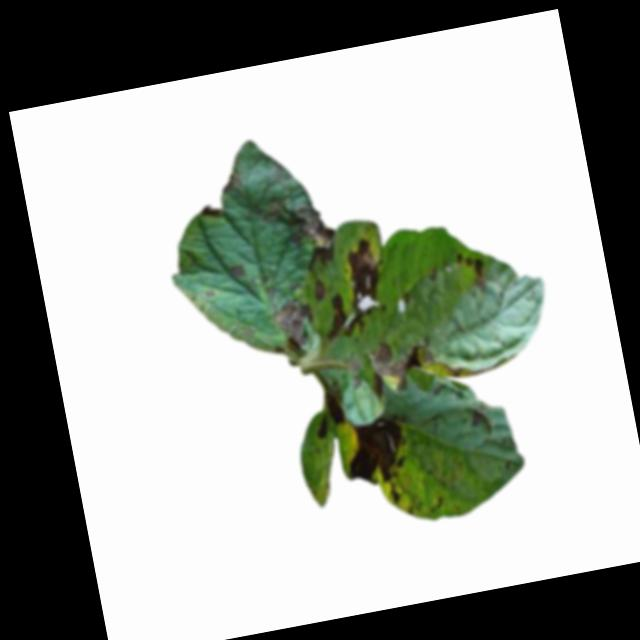Early_blight: (258, 189, 338, 254), (339, 415, 410, 488), (340, 233, 391, 308), (272, 291, 320, 357), (319, 287, 377, 341), (365, 339, 412, 388), (454, 246, 489, 283), (304, 241, 339, 271), (386, 480, 409, 508), (311, 412, 332, 438), (221, 169, 244, 191), (313, 275, 328, 299), (230, 263, 247, 276)
